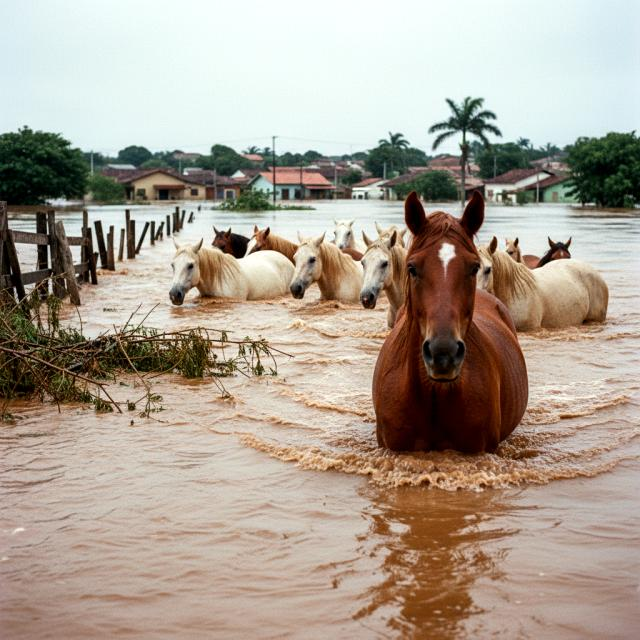horse: (357, 189, 534, 458), (459, 231, 621, 348), (165, 238, 298, 312), (348, 232, 422, 320), (291, 236, 363, 304), (522, 232, 582, 268), (207, 226, 256, 270), (244, 225, 302, 261), (324, 214, 368, 254), (372, 217, 413, 254), (494, 232, 528, 266)
